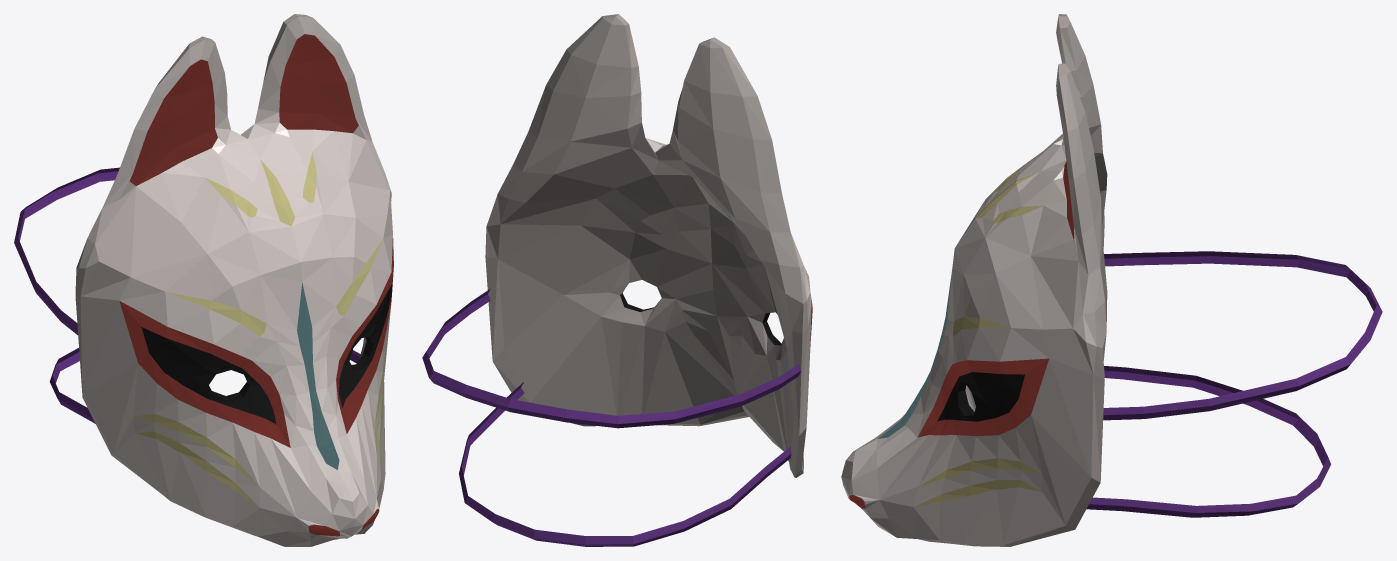
File: kitsuneMaskWhite.glb
3 renders of one model, left to right at view 1: azimuth 30°, elevation 25°; view 2: azimuth 150°, elevation 25°; view 3: azimuth 270°, elevation 25°, orthographic. The views are drawn at different scales.
Visible parts, largest first — view 1: kitsuneMaskWhite; view 2: kitsuneMaskWhite; view 3: kitsuneMaskWhite.
Boxes of the visible parts, left/top/right/bottom form: kitsuneMaskWhite: left=14, top=14, right=393, bottom=546; kitsuneMaskWhite: left=422, top=14, right=812, bottom=546; kitsuneMaskWhite: left=841, top=14, right=1382, bottom=546.
Bounding box in the file's own units: 0.268 × 0.3744 × 0.3862.
